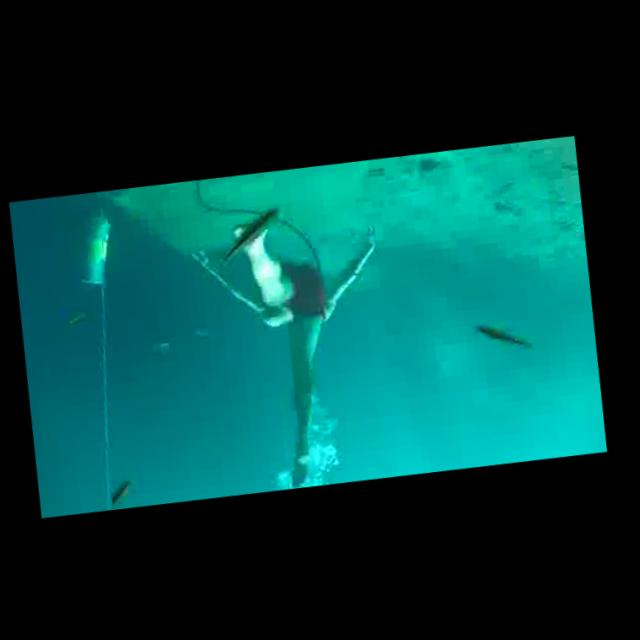human: (176, 197, 414, 501)
